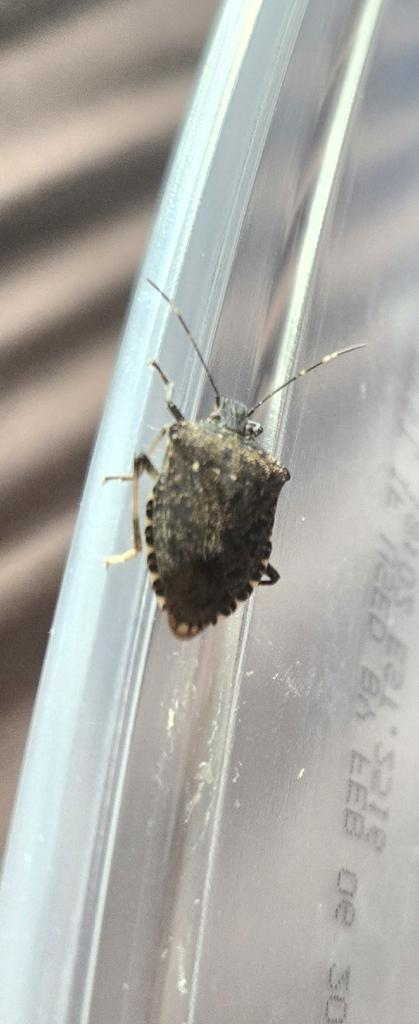stink_bugs: (76, 240, 383, 730)
